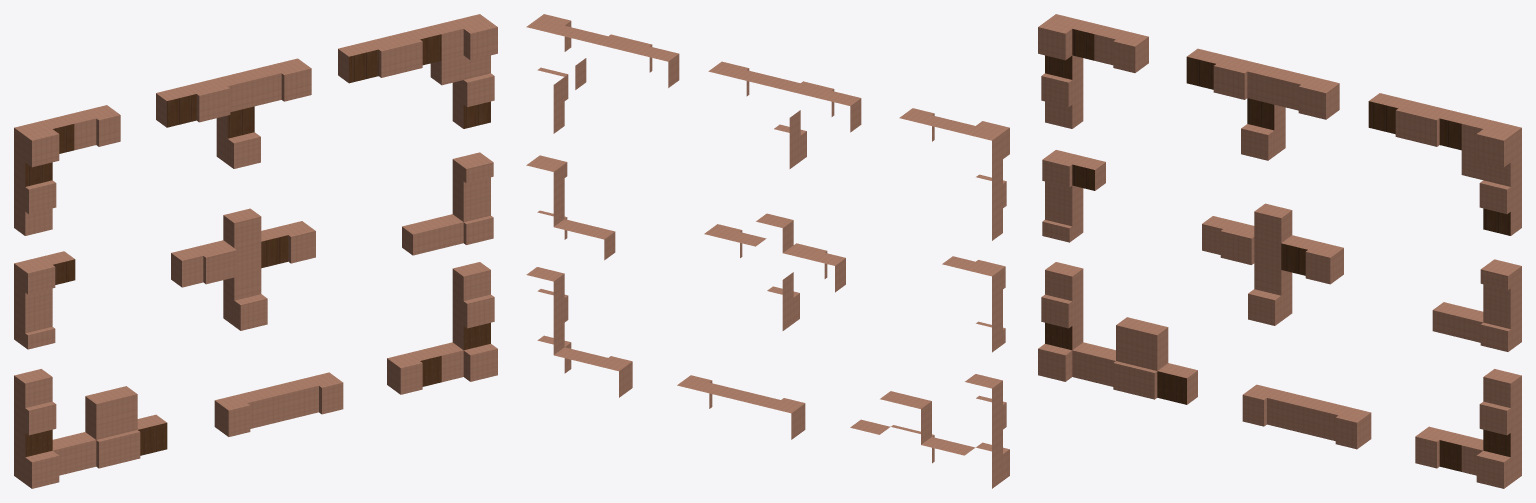
File: SGY_YYFZX01.gltf
3 views of the same model, side by side, from view 1: azimuth 30°, elevation 25°; view 2: azimuth 150°, elevation 25°; view 3: azimuth 330°, elevation 25° (orthographic).
Parts seen in each view (by area): view 1: Box006; view 2: Box006; view 3: Box006.
Boxes of the visible parts, x1,y1,x2,y2 form: Box006: (14,14,497,488); Box006: (526,14,1009,488); Box006: (1038,14,1521,488).
Bounding box in the file's own units: 17 × 12.14 × 1.13.
2 materials, 2 textured.
